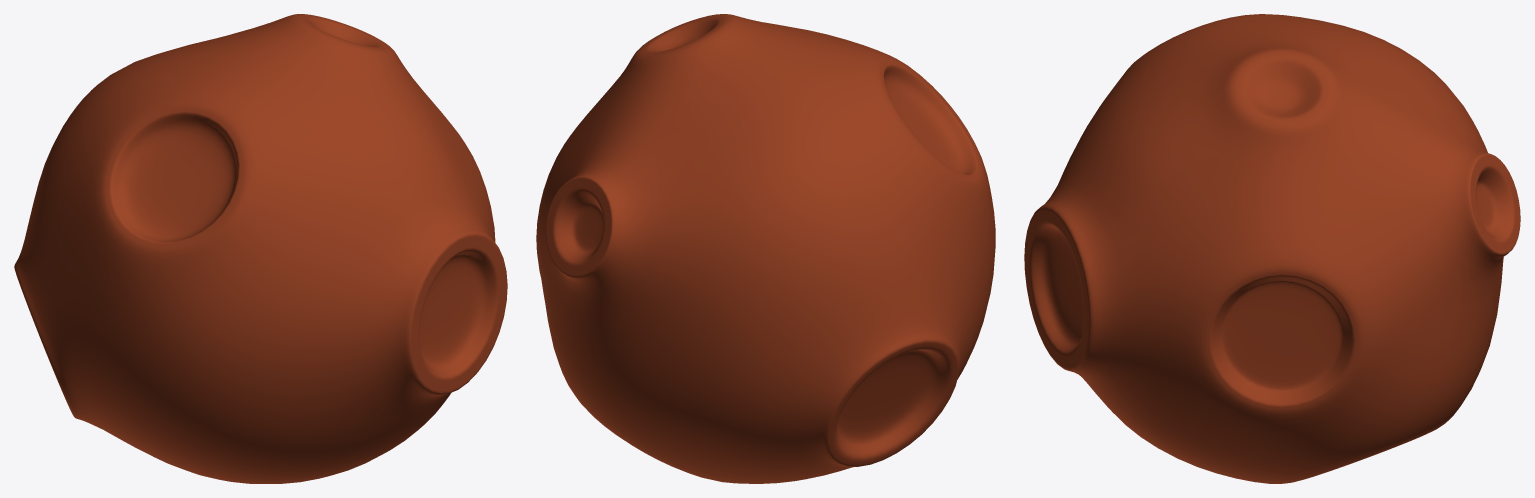
File: Asteroid1.fbx
3 views of the same model, side by side, from view 1: azimuth 30°, elevation 25°; view 2: azimuth 150°, elevation 25°; view 3: azimuth 270°, elevation 25° (orthographic).
Visible parts, largest first — view 1: pCube2; view 2: pCube2; view 3: pCube2.
Boxes of the visible parts, box(x1,y1,x2,y2) form: pCube2: box(14, 14, 507, 483); pCube2: box(536, 14, 995, 483); pCube2: box(1024, 14, 1520, 483).
Bounding box in the file's own units: 665 × 682 × 717.
